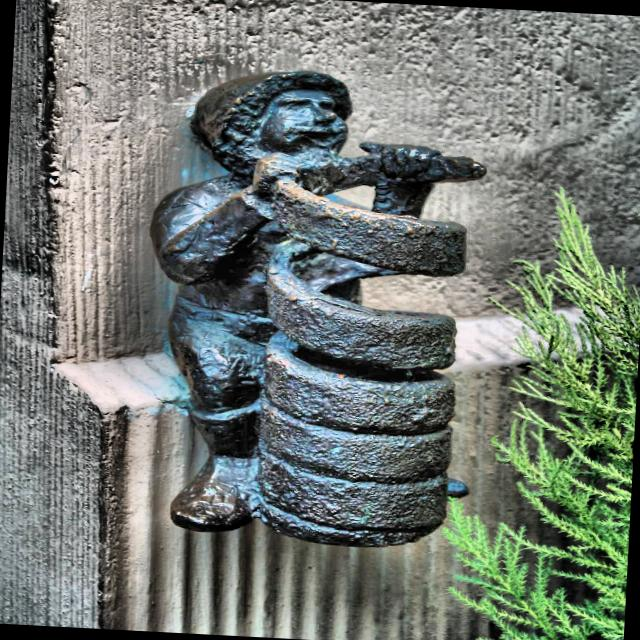Czimnejek: (127, 54, 499, 560)
